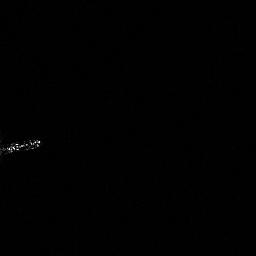ship: (6, 139, 41, 153)
